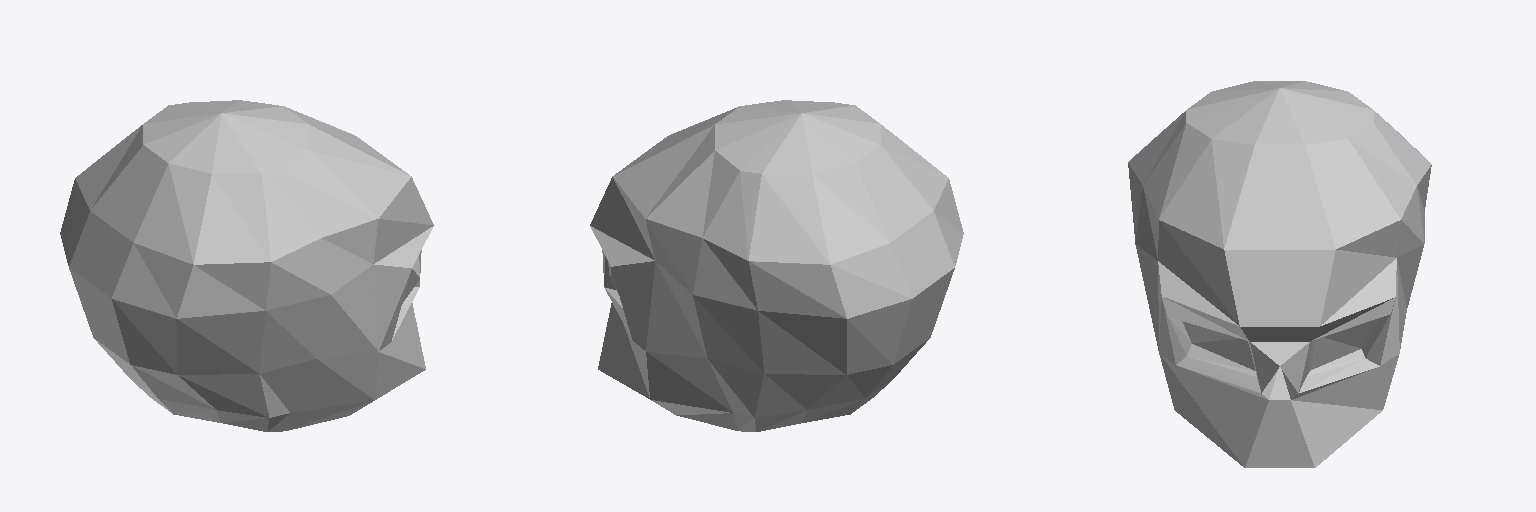
File: bone_3.obj
The picture shows the model from 3 angles: view 1: azimuth 30°, elevation 25°; view 2: azimuth 150°, elevation 25°; view 3: azimuth 270°, elevation 25°; orthographic projection.
Parts seen in each view (by area): view 1: sphere_selection; view 2: sphere_selection; view 3: sphere_selection.
Boxes of the visible parts, x1,y1,x2,y2 form: sphere_selection: [60, 100, 433, 431]; sphere_selection: [590, 100, 963, 431]; sphere_selection: [1128, 81, 1431, 467].
Size of the model in its own units: 0.96 by 0.8365 by 0.7619.